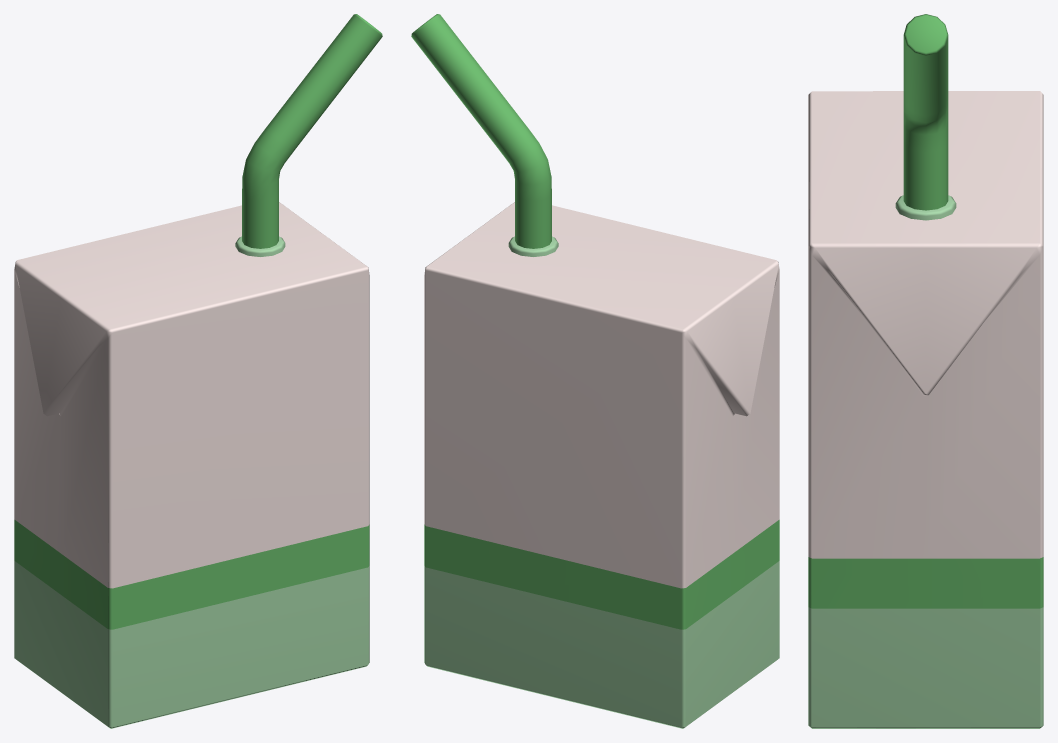
Rendered from Juice_Box.fbx.
3 renders of one model, left to right at view 1: azimuth 30°, elevation 25°; view 2: azimuth 150°, elevation 25°; view 3: azimuth 270°, elevation 25°, orthographic. The views are drawn at different scales.
Parts seen in each view (by area): view 1: Juice_Box; view 2: Juice_Box; view 3: Juice_Box.
Boxes of the visible parts, left/top/right/bottom form: Juice_Box: left=14, top=14, right=382, bottom=728; Juice_Box: left=411, top=14, right=779, bottom=728; Juice_Box: left=808, top=14, right=1043, bottom=728.
Bounding box in the file's own units: 11.97 × 20.65 × 5.98.
